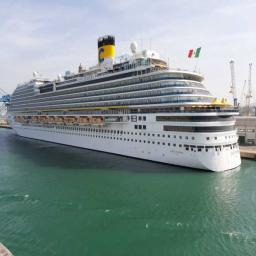cruises: (7, 32, 244, 176)
